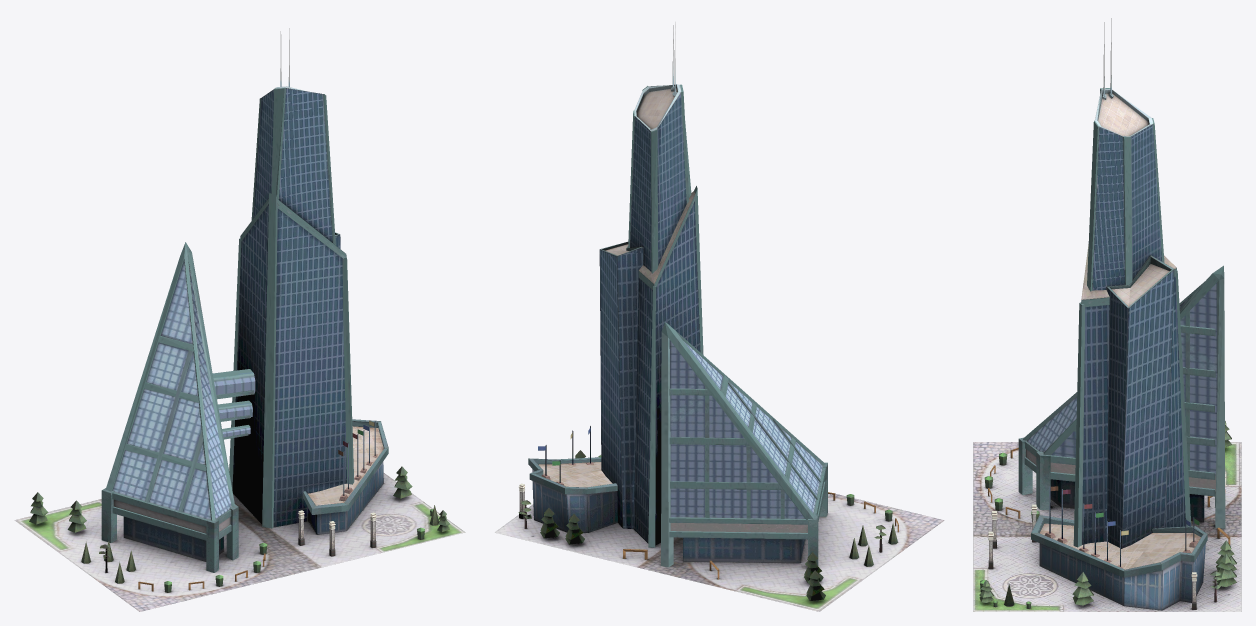
Rendered from L高楼3.obj.
The picture shows the model from 3 angles, left to right: view 1: azimuth 30°, elevation 25°; view 2: azimuth 150°, elevation 25°; view 3: azimuth 270°, elevation 25°; orthographic projection. The views are drawn at different scales.
Parts seen in each view (by area): view 1: maoyidasha05; view 2: maoyidasha05; view 3: maoyidasha05.
Boxes of the visible parts, box(x1,y1,x2,y2) form: maoyidasha05: box(14, 28, 465, 611); maoyidasha05: box(495, 22, 944, 611); maoyidasha05: box(973, 18, 1241, 611).
Size of the model in its own units: 15.4 by 22.38 by 10.16.
